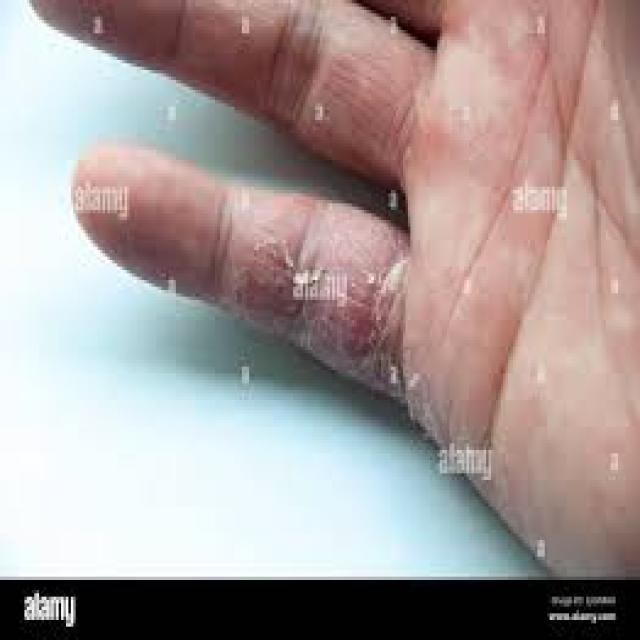Eczema: (178, 1, 468, 443)
